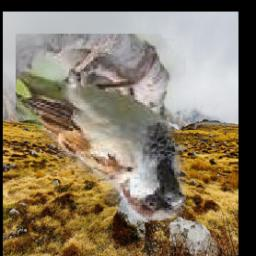Sparrow: (15, 34, 185, 220)
